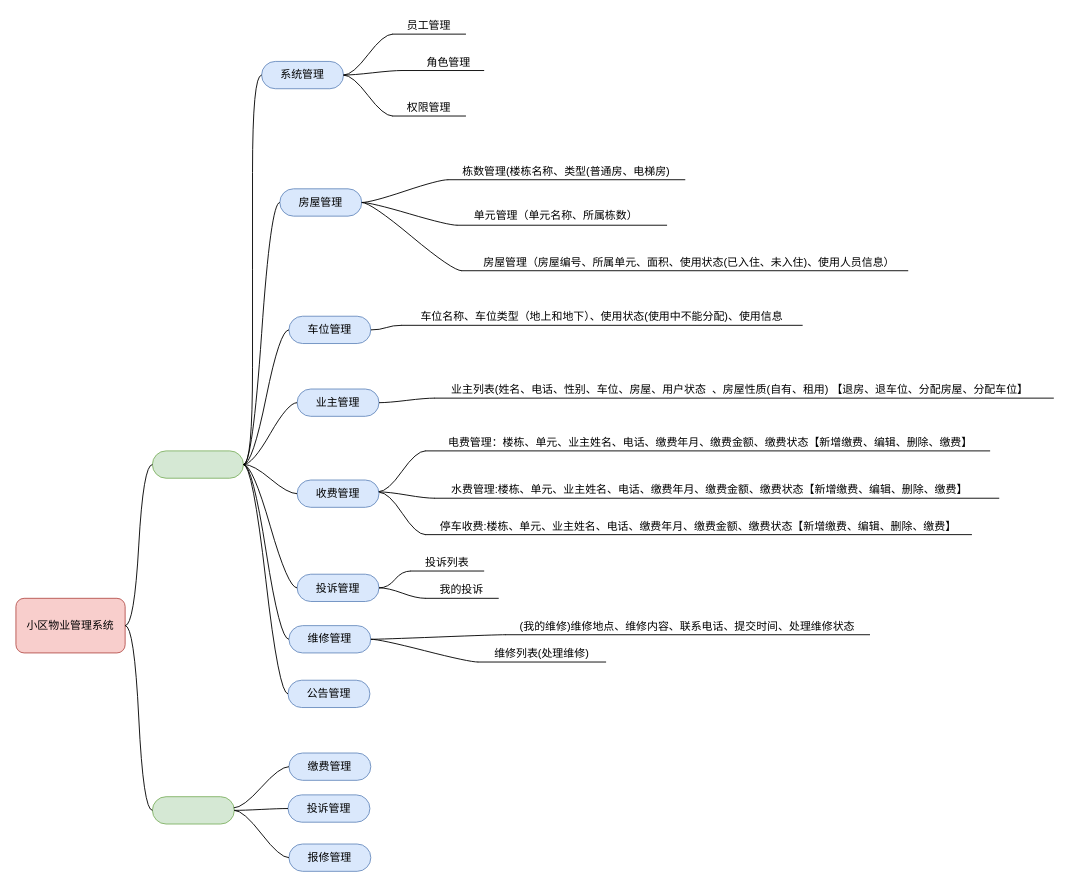
The diagram is 1069 pixels wide and 887 high, and some of its shapes have lost their labels. Each missing label, with the centre of its shape:
小区业主: the point at 193,810
物业管理员: the point at 197,464
